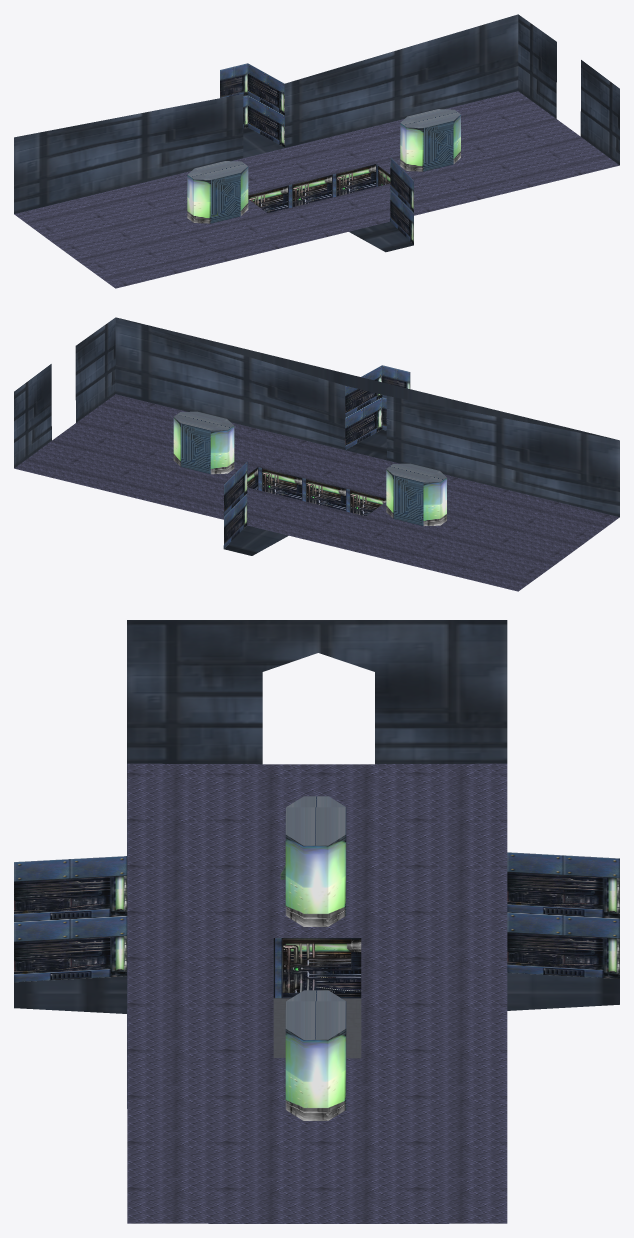
The picture shows the model from 3 angles, top to bottom: view 1: azimuth 30°, elevation 25°; view 2: azimuth 150°, elevation 25°; view 3: azimuth 270°, elevation 25°; orthographic projection. The views are drawn at different scales.
Parts seen in each view (by area): view 1: 05; view 2: 05; view 3: 05.
Boxes of the visible parts, x1,y1,x2,y2 form: 05: (14, 14, 619, 288); 05: (14, 317, 619, 591); 05: (14, 620, 619, 1223).
Size of the model in its own units: 4997 by 1107 by 2780.
8 materials, 8 textured.
